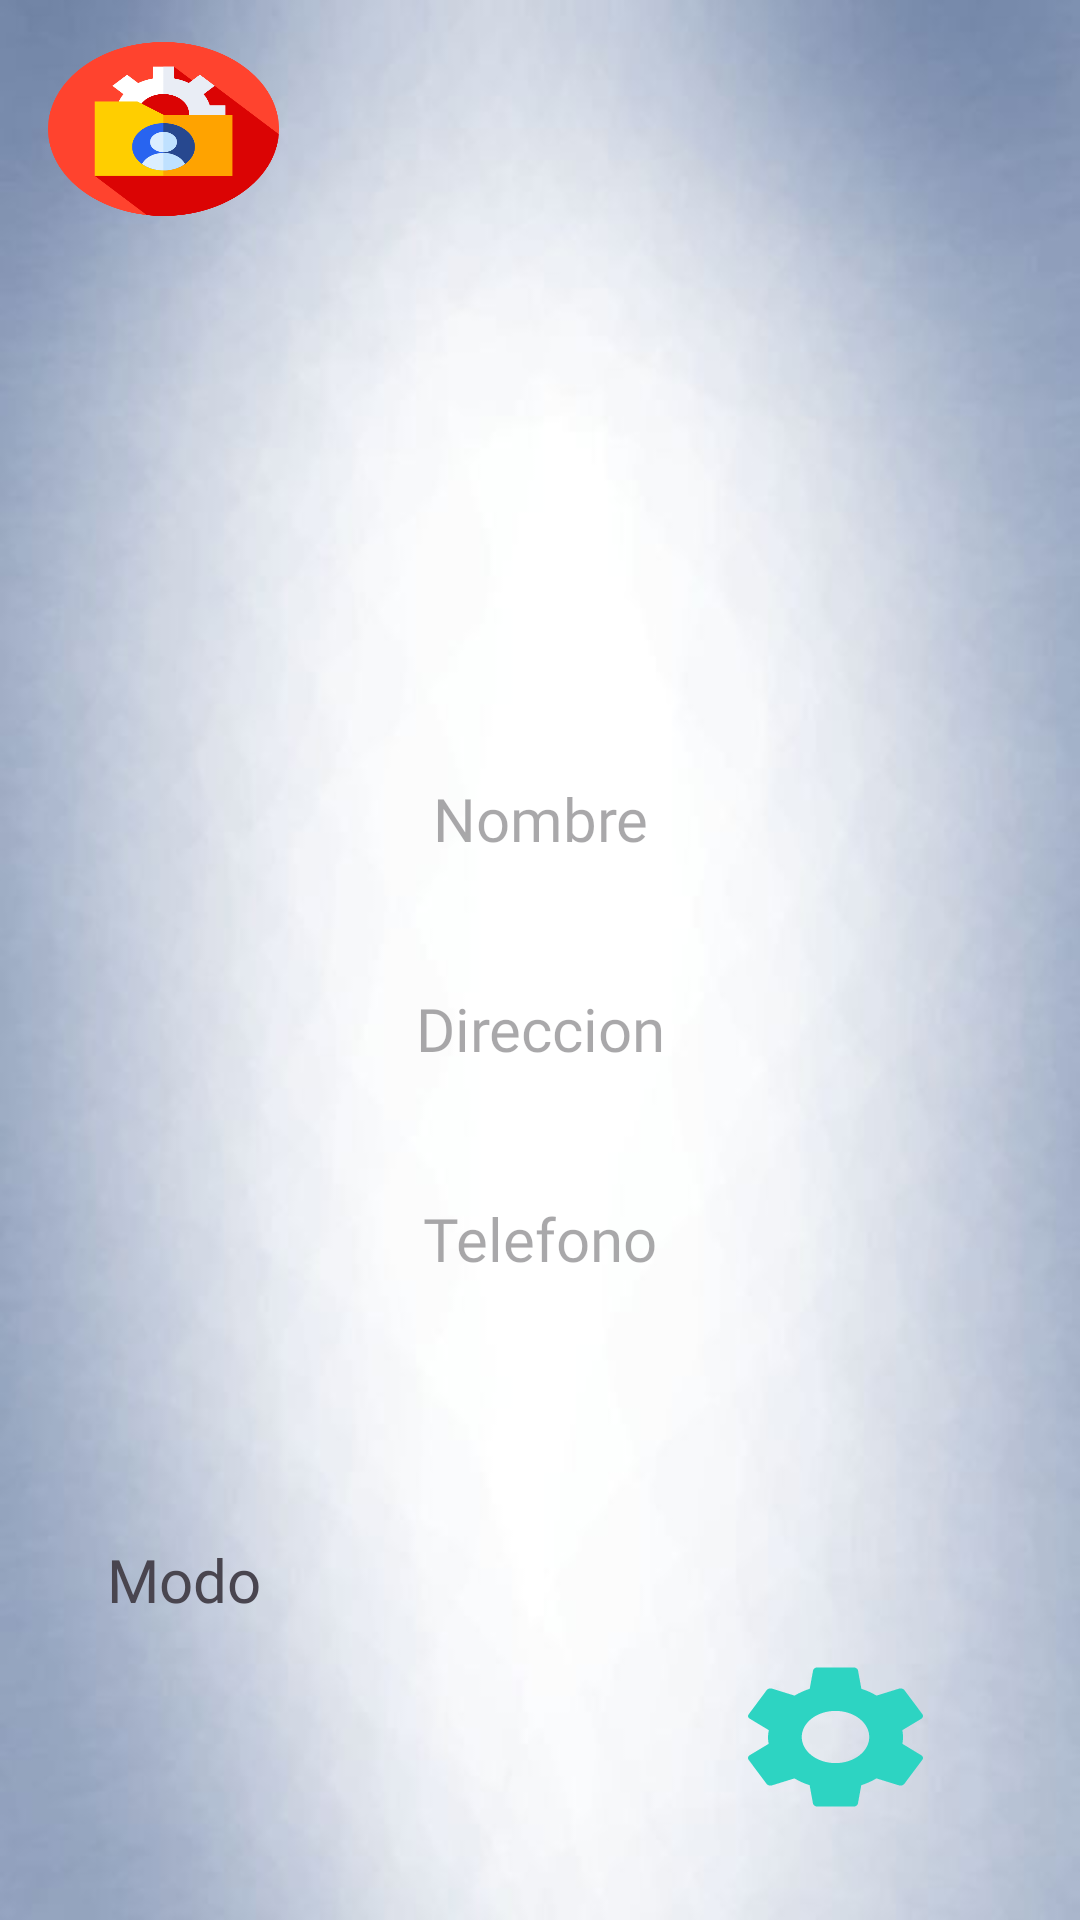

Icons on this 1080 × 1920 Android screen, each with the point to tap as (x=x, y=y):
carpeta: (x=163, y=129)
settings: (x=835, y=1737)
